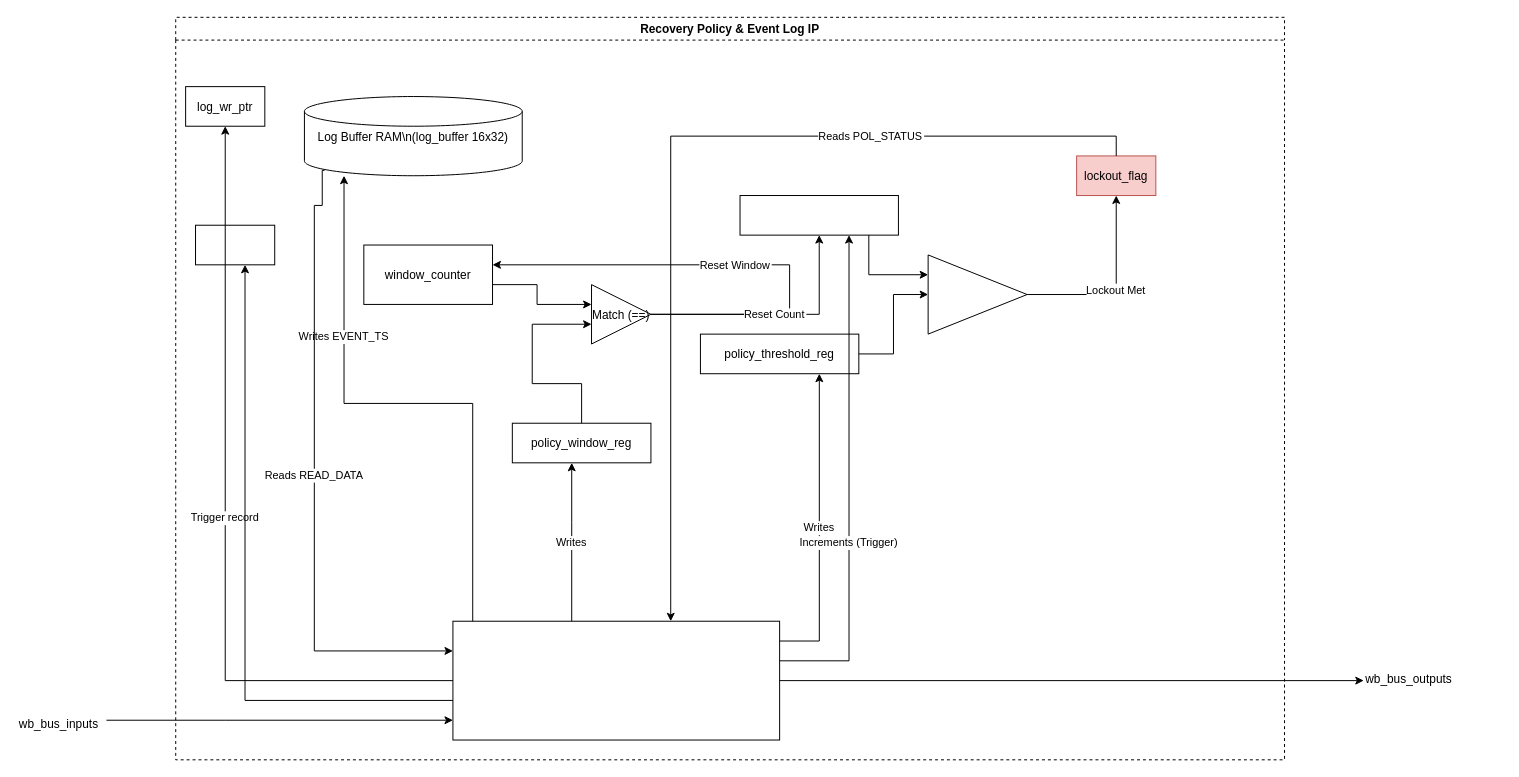
This 1519x777 diagram has some shape labels left out. Each missing label, with the box of its shape:
Exceeded (>=): (927, 254, 1027, 334)
log_count: (195, 224, 275, 265)
window_recovery_count: (739, 195, 898, 235)
Wishbone Interface: (452, 620, 780, 740)
